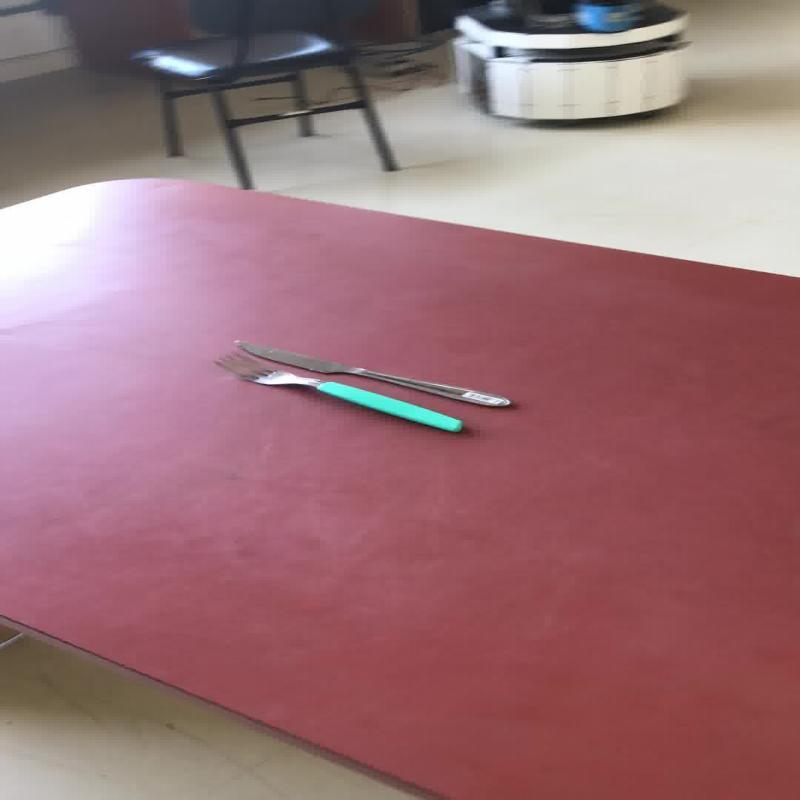fork: (211, 347, 464, 434)
knife: (230, 338, 512, 408)
